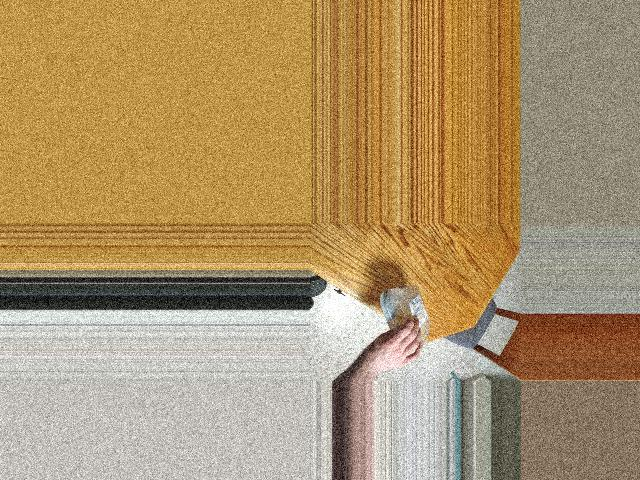cheese: (383, 289, 431, 345)
